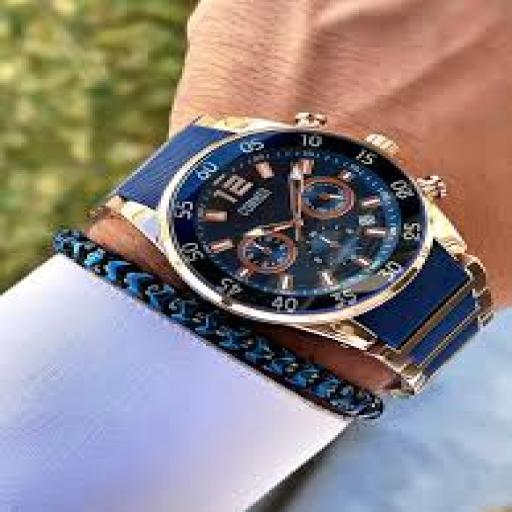KolSaati: (64, 94, 506, 400)
